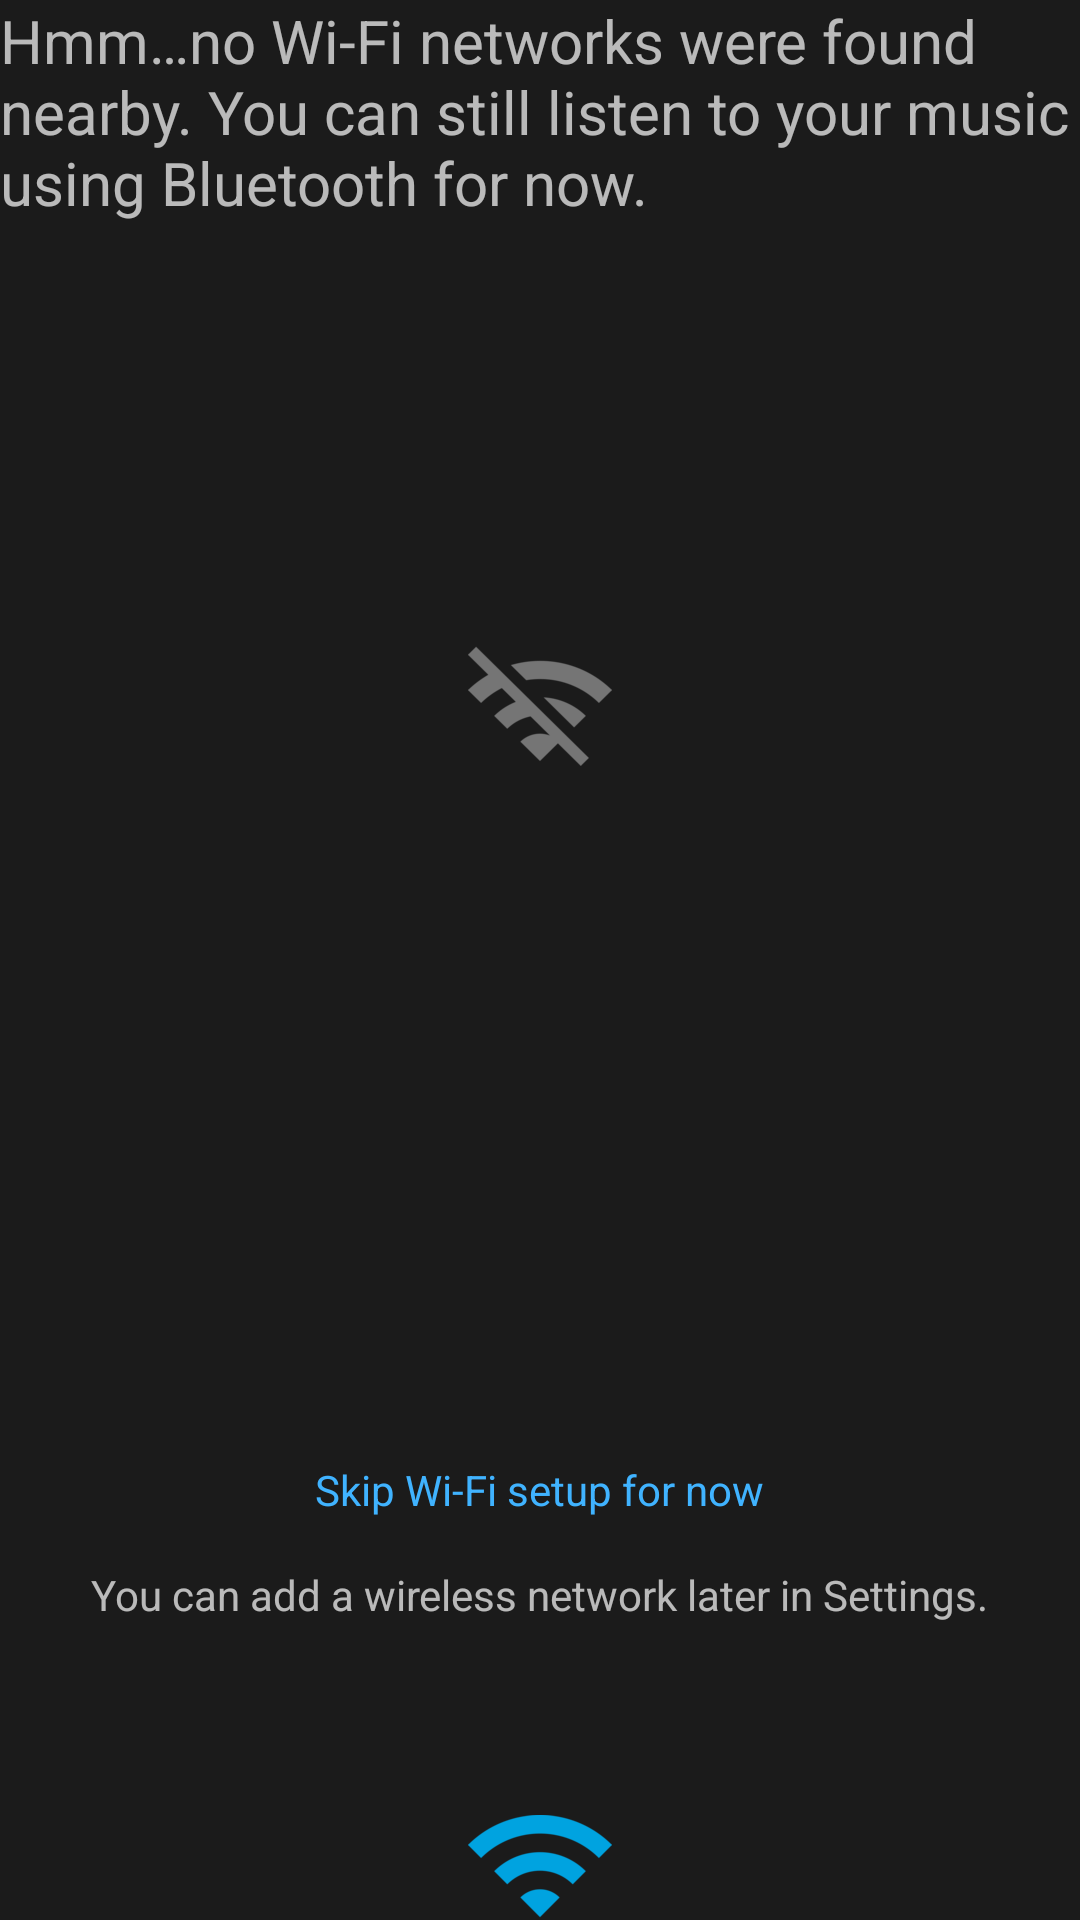

Where to tap for icons on this 1080 x 1920 app screen, as [x,y]:
wifi not found: [540,706]
